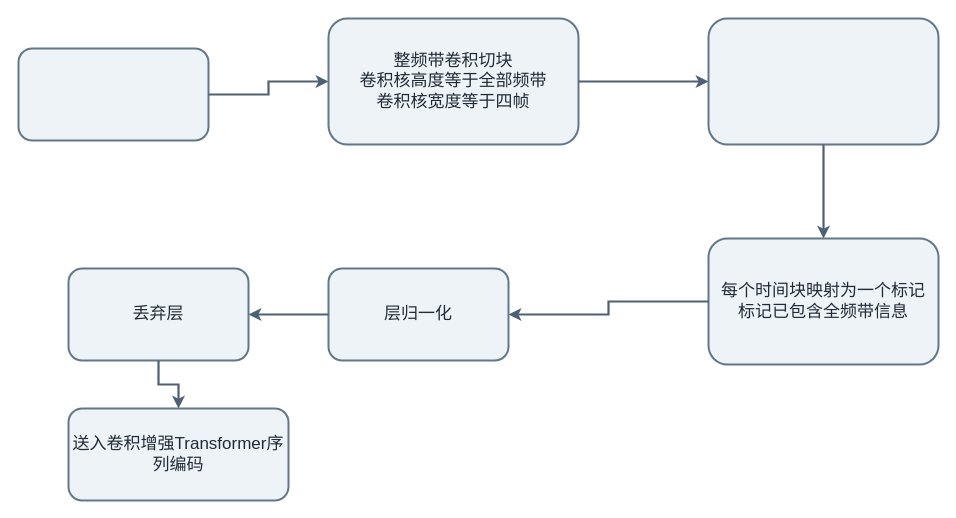
Some shapes in this 956 by 518 pixel diagram are drawn without their labels. The shapes that lost their labels are listed below. From the top down, each one's centre as x and y in pixels, then its label:
the point at 113,94: 输入频谱图 频带数八十
the point at 823,81: 沿时间轴滑动 步长等于四帧 形成不重叠时间块
